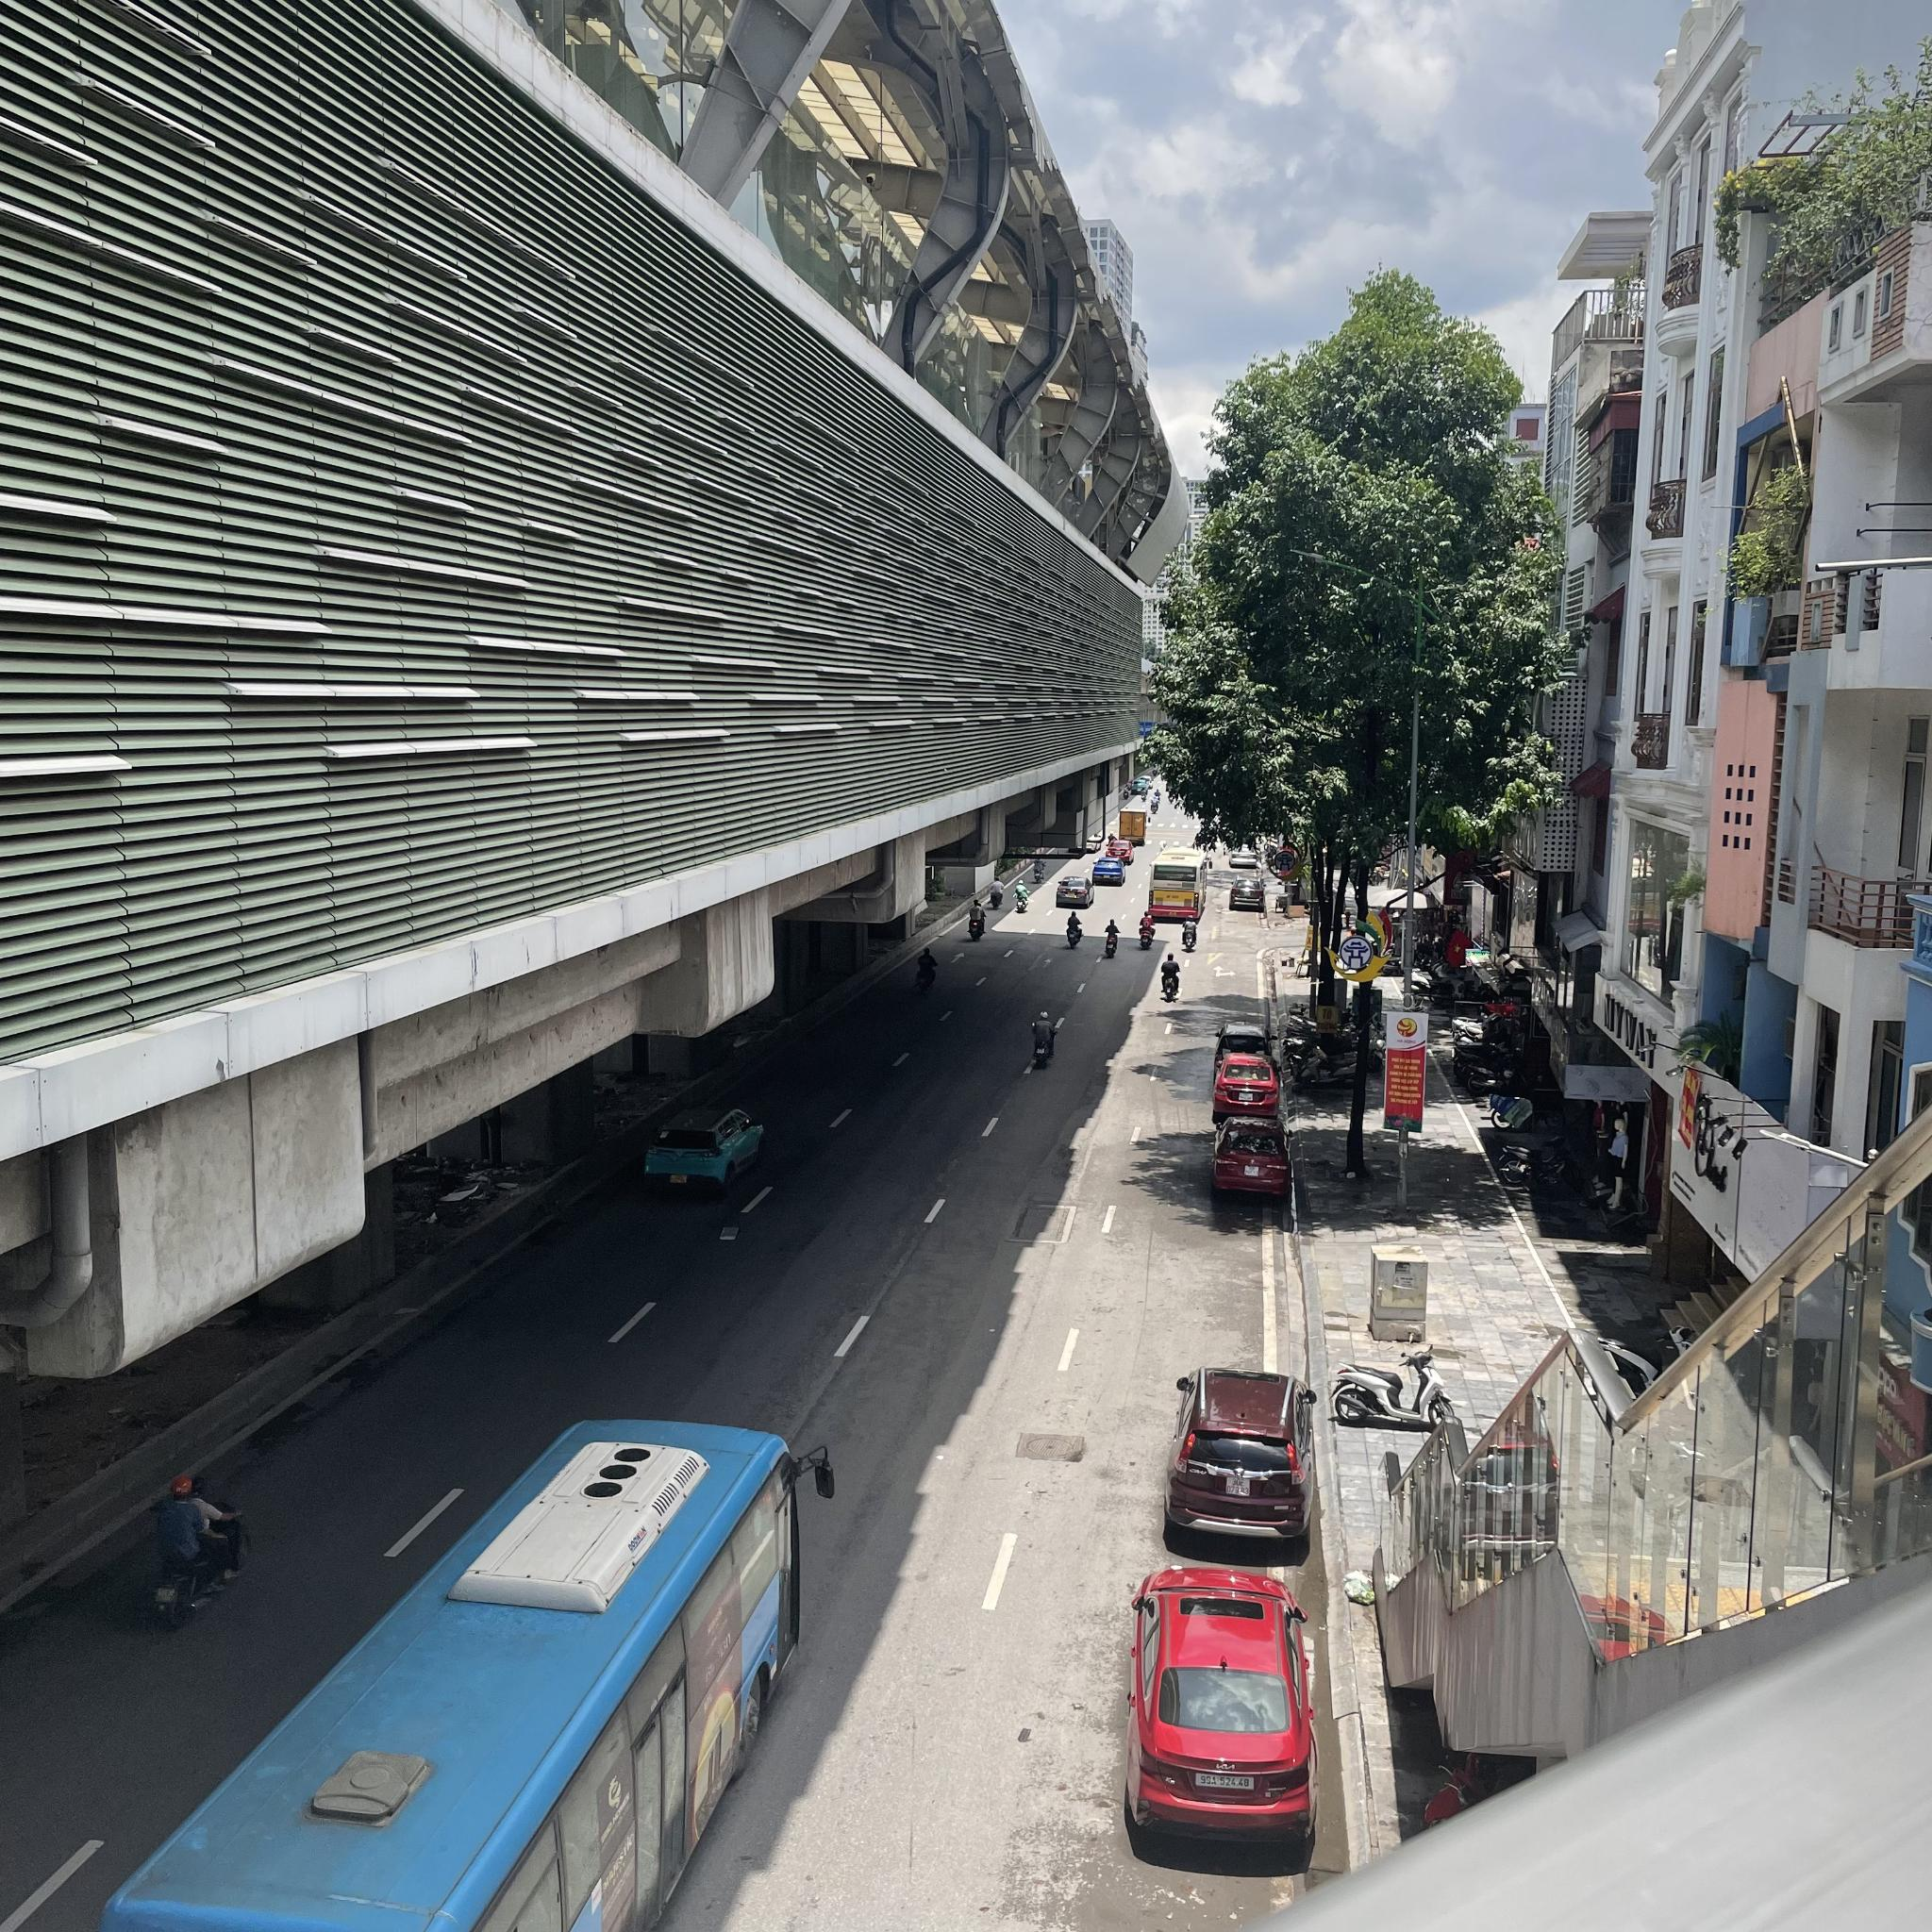car: (272, 1426, 818, 1932), (1125, 1559, 1317, 1873), (1165, 1361, 1312, 1556), (644, 1108, 770, 1201), (1207, 1125, 1295, 1201), (1209, 1056, 1279, 1119), (1151, 849, 1207, 920), (1208, 1025, 1276, 1074), (1055, 877, 1091, 909), (1092, 861, 1128, 886), (1232, 876, 1258, 909)
motobike: (154, 1469, 249, 1610), (1345, 1355, 1460, 1427), (1027, 1008, 1056, 1059), (1159, 954, 1183, 1001), (962, 896, 988, 938), (916, 947, 937, 992), (1137, 914, 1158, 952), (1104, 917, 1122, 960), (1180, 915, 1201, 951), (1063, 914, 1082, 948), (987, 876, 1006, 908), (1011, 878, 1027, 916)
